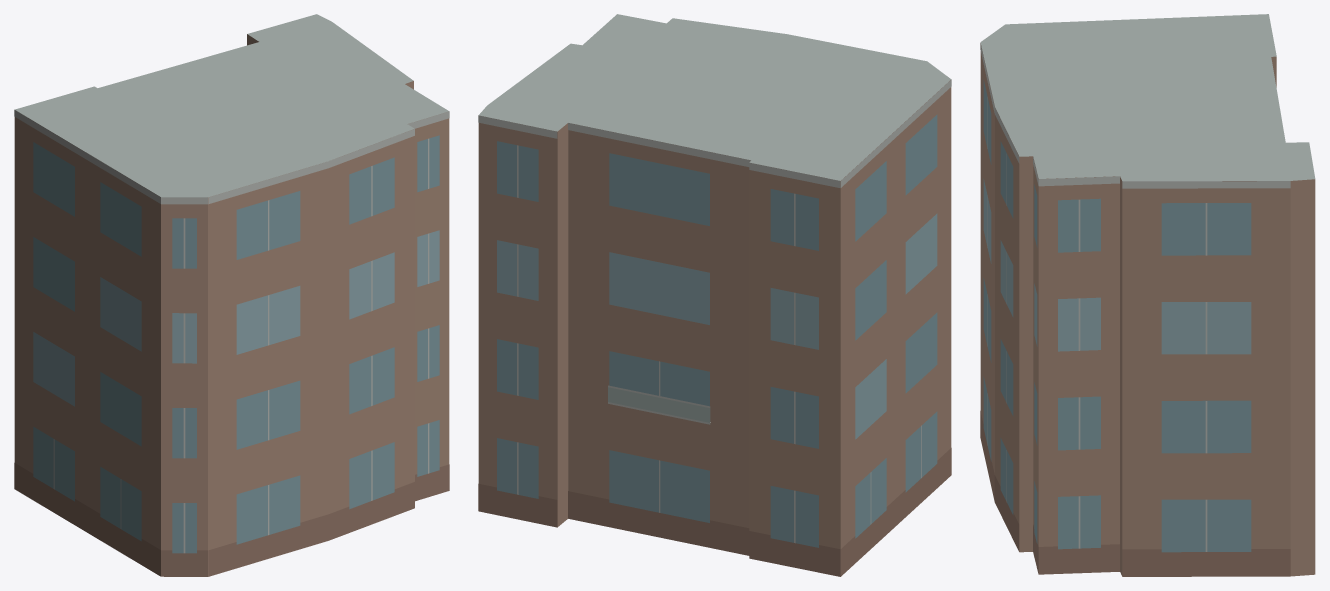
File: survey-upis-32472981.glb
The picture shows the model from 3 angles, left to right: view 1: azimuth 30°, elevation 25°; view 2: azimuth 150°, elevation 25°; view 3: azimuth 270°, elevation 25°; orthographic projection. The views are drawn at different scales.
Visible parts, largest first — view 1: survey-upis-32472981.tmp; view 2: survey-upis-32472981.tmp; view 3: survey-upis-32472981.tmp.
Boxes of the visible parts, left/top/right/bottom form: survey-upis-32472981.tmp: left=14, top=14, right=449, bottom=576; survey-upis-32472981.tmp: left=478, top=14, right=951, bottom=576; survey-upis-32472981.tmp: left=980, top=14, right=1315, bottom=576.
Size of the model in its own units: 11.99 by 13.2 by 10.14.
